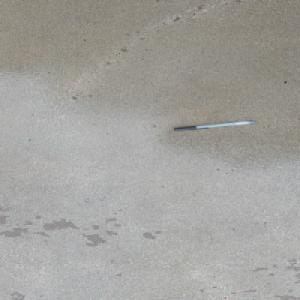Pen: (173, 119, 255, 131)
